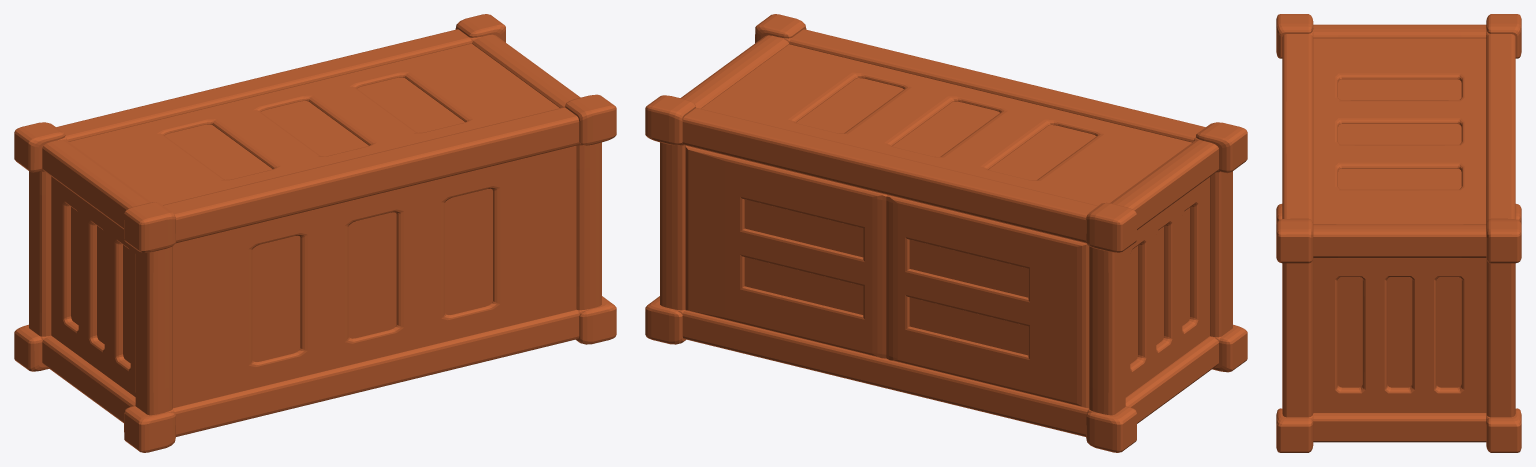
File: cargo_oragne.fbx
3 renders of one model, left to right at view 1: azimuth 30°, elevation 25°; view 2: azimuth 150°, elevation 25°; view 3: azimuth 270°, elevation 25°, orthographic. The views are drawn at different scales.
Visible parts, largest first — view 1: Cube.023; view 2: Cube.023; view 3: Cube.023.
Boxes of the visible parts, x1,y1,x2,y2 form: Cube.023: (14, 14, 616, 452); Cube.023: (645, 14, 1247, 452); Cube.023: (1276, 14, 1521, 452).
Size of the model in its own units: 3.65 by 1.71 by 1.71.
